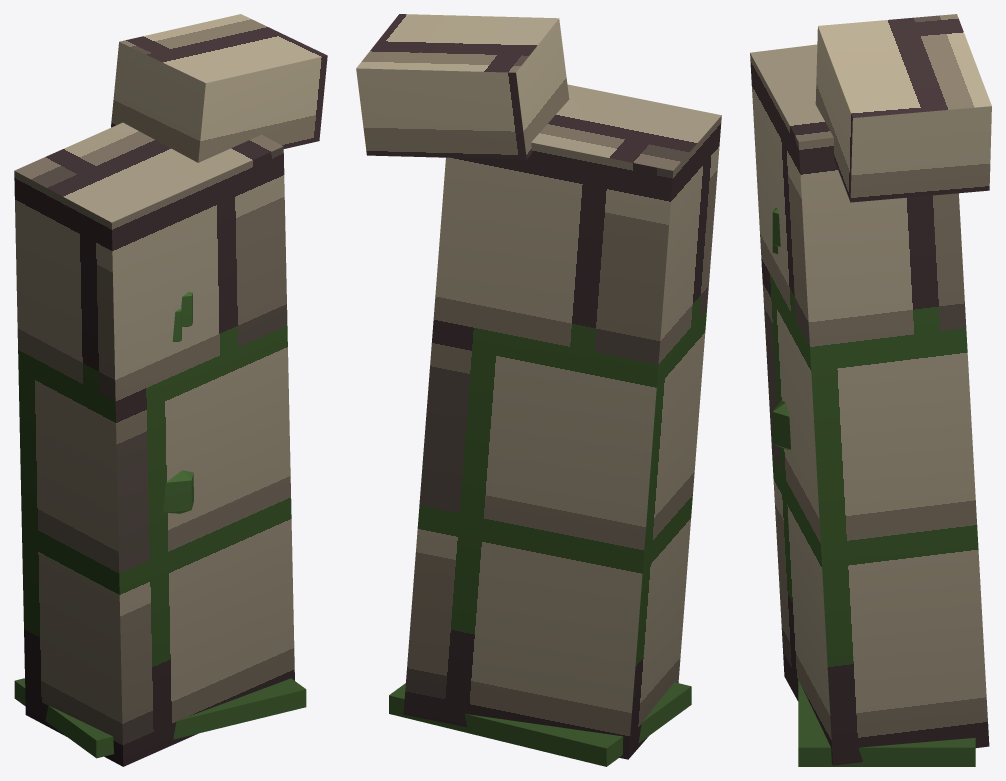
The model's file is standing_stone.glb.
The picture shows the model from 3 angles, left to right: view 1: azimuth 30°, elevation 25°; view 2: azimuth 150°, elevation 25°; view 3: azimuth 270°, elevation 25°; orthographic projection. The views are drawn at different scales.
Parts seen in each view (by area): view 1: standing_stone; view 2: standing_stone; view 3: standing_stone.
Part boxes in pixels (x1,y1,x2,y2): standing_stone: (14, 14, 327, 766); standing_stone: (356, 14, 721, 766); standing_stone: (750, 14, 991, 766).
Bounding box in the file's own units: 1.02 × 2.18 × 0.6821.
2 materials, 1 textured.
